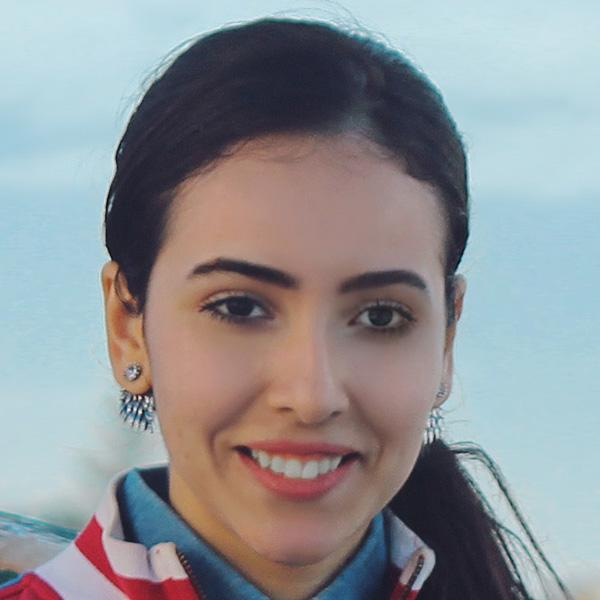Eyes: (191, 278, 282, 336), (334, 288, 422, 344)
